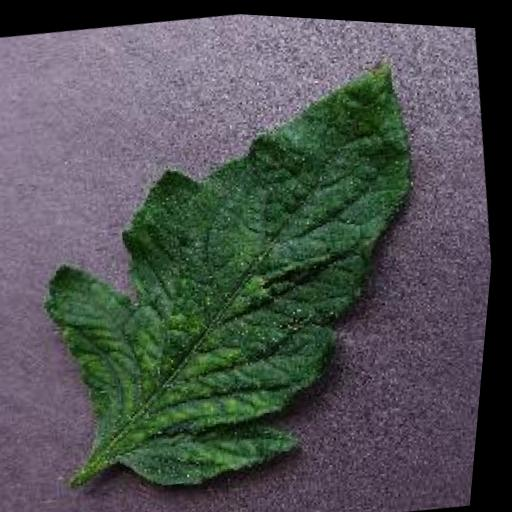Mosaic Virus: (7, 36, 467, 512)
